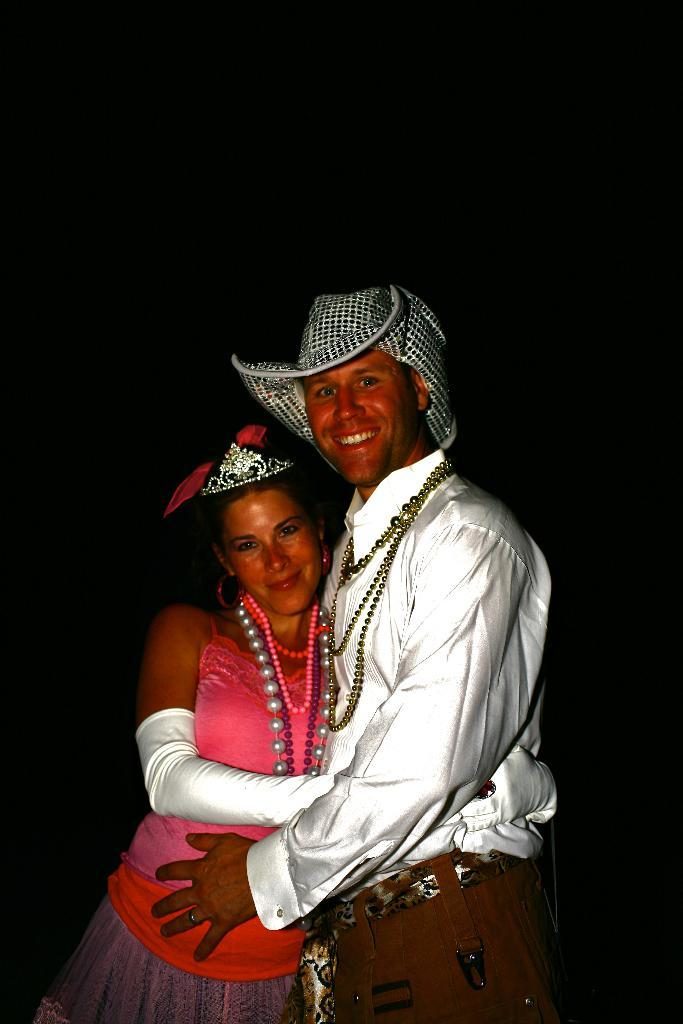Hat: (226, 284, 457, 476)
